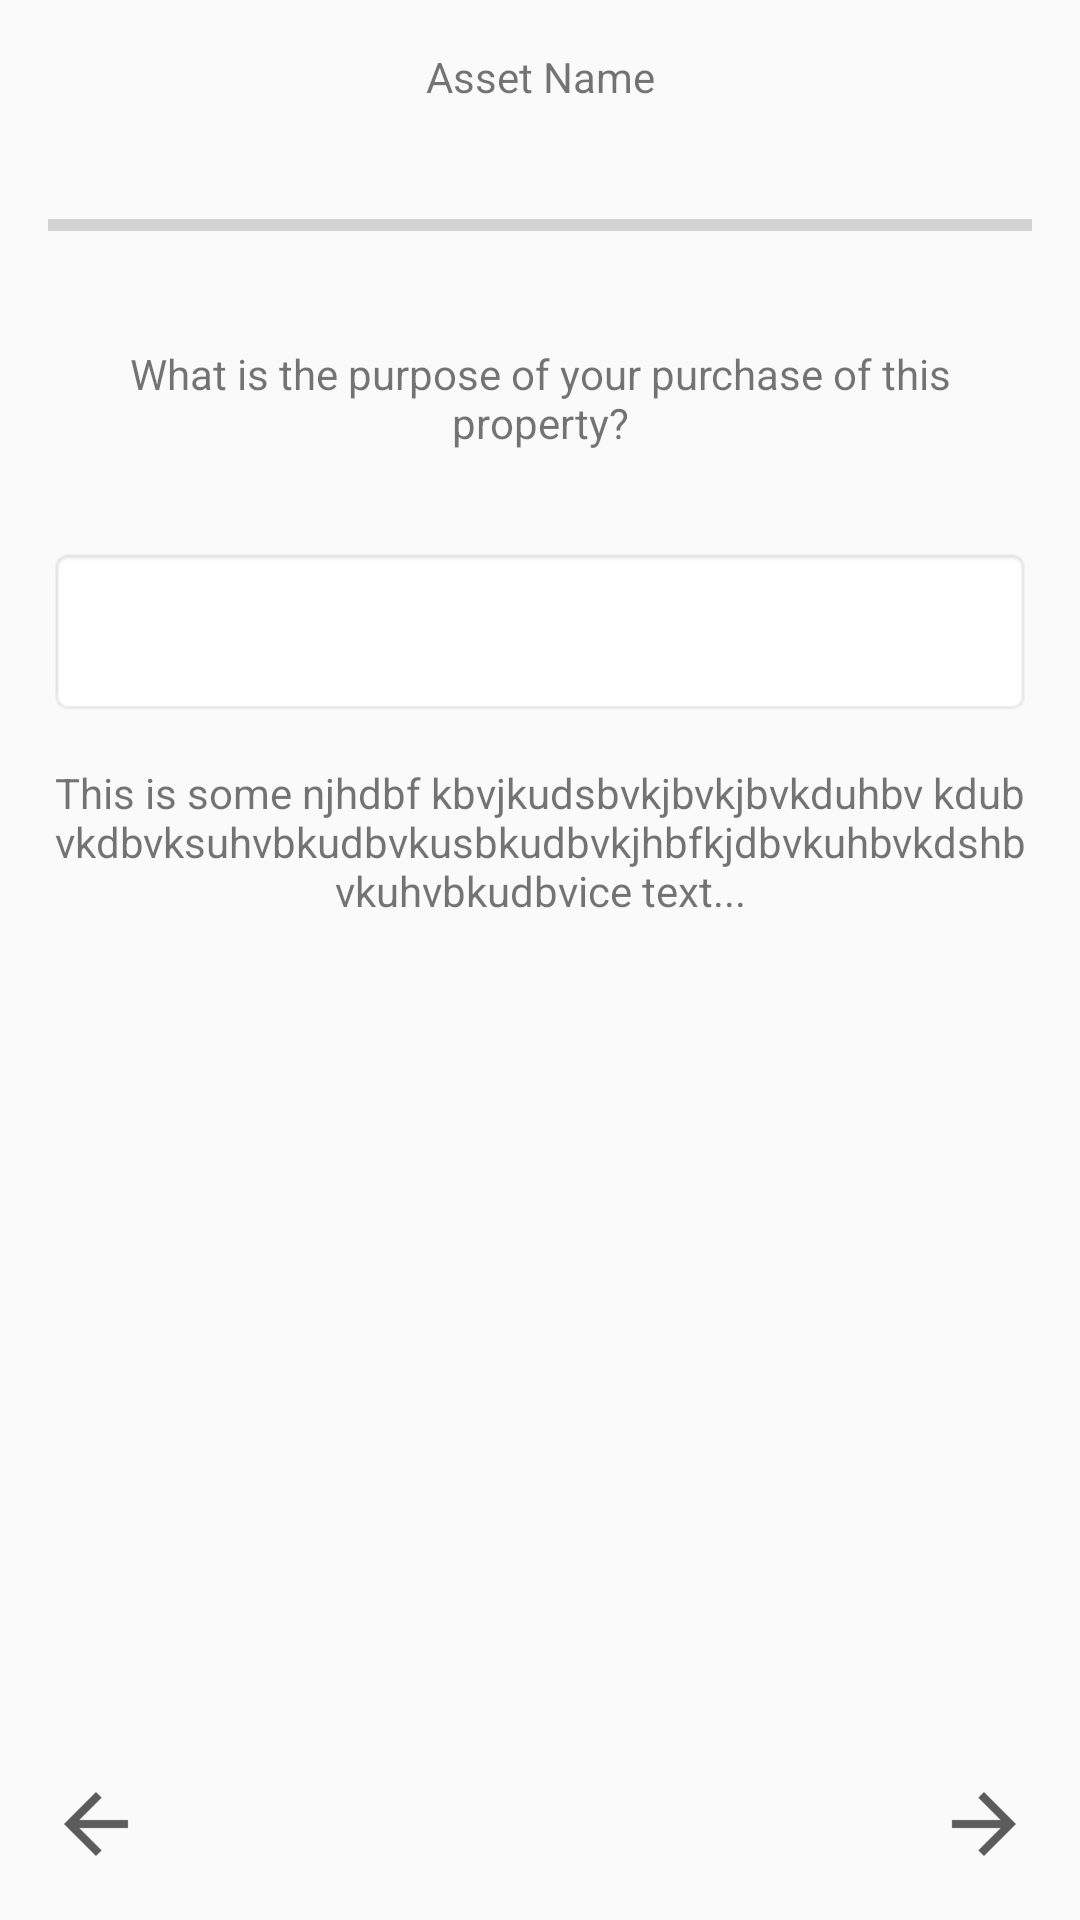

Where icons sit on this 1080px x 1920px app screen, as (x1, y1, x2, y2):
arrow next: (952, 1792, 1016, 1856)
arrow prev: (64, 1792, 128, 1856)
